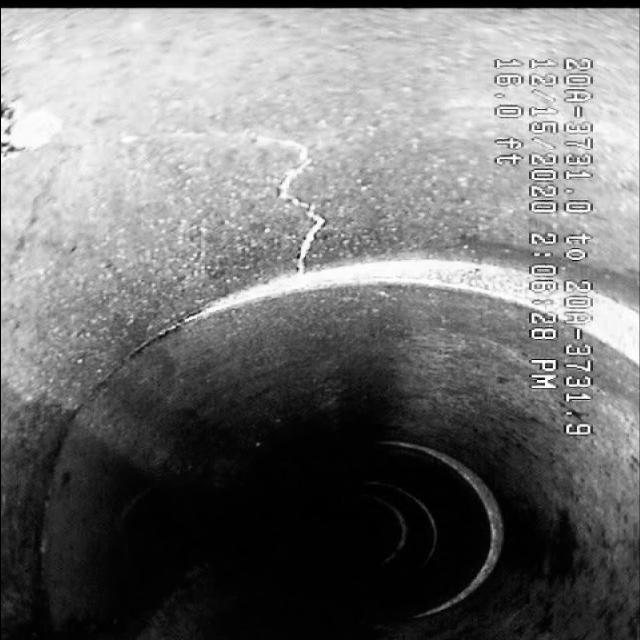Crack: (159, 93, 364, 290)
